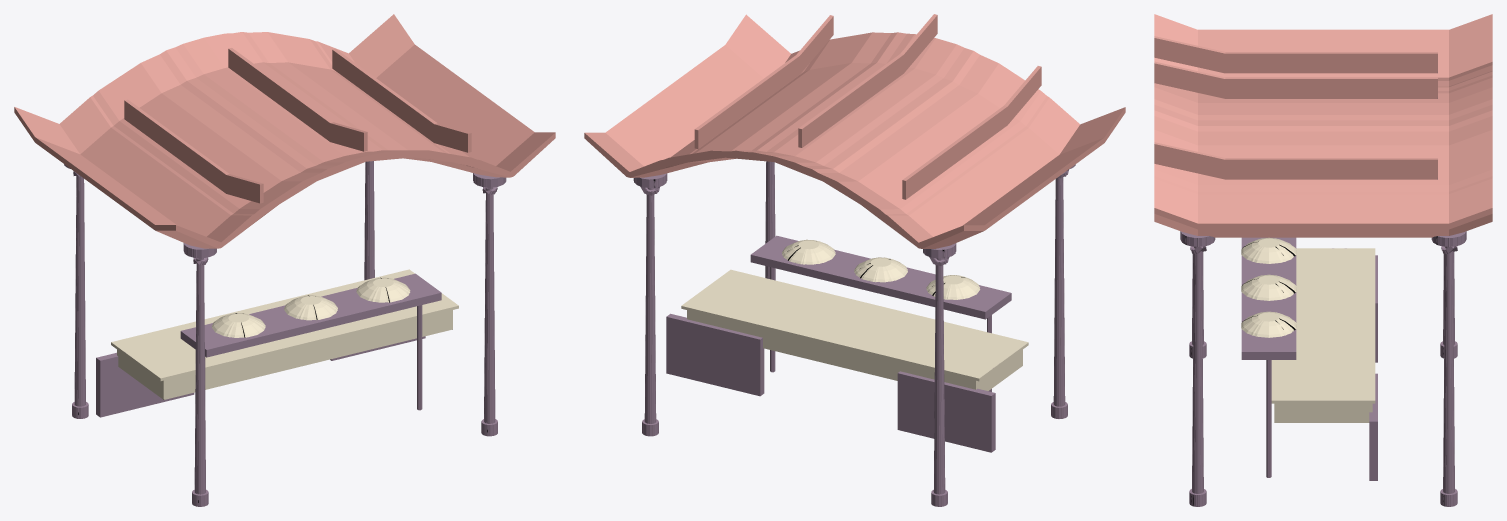
File: env_market_stall_a.glb
3 views of the same model, side by side, from view 1: azimuth 30°, elevation 25°; view 2: azimuth 150°, elevation 25°; view 3: azimuth 270°, elevation 25° (orthographic). The views are drawn at different scales.
Parts seen in each view (by area): view 1: lod0__stall_canopy, lod1__stall_canopy, lod0__stall_liptop, lod2__stall_canopy, lod0__stall_counter, lod0__stall_shelf, lod1__stall_counter, lod0__stall_rib_x1.15, lod0__stall_rib_x-1.15, lod0__stall_rib_x0.0, lod0__stall_front, lod0__stall_post.002 (+9 smaller); view 2: lod1__stall_canopy, lod0__stall_canopy, lod0__stall_liptop, lod0__stall_front.001, lod0__stall_front, lod0__stall_shelf, lod2__stall_canopy, lod0__stall_counter, lod0__stall_rib_x1.15, lod0__stall_rib_x0.0, lod0__stall_rib_x-1.15, lod1__stall_counter (+7 smaller); view 3: lod0__stall_canopy, lod1__stall_canopy, lod0__stall_liptop, lod0__stall_rib_x0.0, lod0__stall_rib_x1.15, lod0__stall_rib_x-1.15, lod0__stall_shelf, lod2__stall_canopy, lod0__stall_post.002, lod0__stall_post.003, lod0__stall_counter, lod1__stall_counter (+9 smaller).
Part boxes in pixels (x1,y1,x2,y2): lod0__stall_canopy: (14, 32, 555, 248); lod1__stall_canopy: (14, 14, 555, 246); lod0__stall_liptop: (111, 269, 458, 381); lod2__stall_canopy: (36, 45, 532, 246); lod0__stall_counter: (141, 310, 452, 399); lod0__stall_shelf: (180, 273, 441, 357); lod1__stall_counter: (117, 310, 452, 399); lod0__stall_rib_x1.15: (332, 49, 471, 152); lod0__stall_rib_x-1.15: (124, 99, 263, 203); lod0__stall_rib_x0.0: (228, 48, 367, 151); lod0__stall_front: (96, 352, 194, 417); lod0__stall_post.002: (484, 187, 495, 423); lod1__stall_canopy: (584, 14, 1124, 247); lod0__stall_canopy: (584, 32, 1125, 248); lod0__stall_liptop: (681, 269, 1028, 381); lod0__stall_front.001: (666, 313, 764, 396); lod0__stall_front: (897, 371, 995, 452); lod0__stall_shelf: (750, 235, 1011, 319); lod2__stall_canopy: (606, 45, 1104, 247); lod0__stall_counter: (687, 311, 1022, 389); lod0__stall_rib_x1.15: (694, 15, 833, 148); lod0__stall_rib_x0.0: (798, 14, 937, 147); lod0__stall_rib_x-1.15: (902, 66, 1041, 199); lod1__stall_counter: (687, 310, 1022, 390); lod0__stall_canopy: (1154, 62, 1492, 237); lod1__stall_canopy: (1154, 14, 1492, 229); lod0__stall_liptop: (1271, 248, 1375, 403); lod0__stall_rib_x0.0: (1154, 61, 1437, 98); lod0__stall_rib_x1.15: (1154, 142, 1437, 179); lod0__stall_rib_x-1.15: (1154, 36, 1437, 73); lod0__stall_shelf: (1241, 237, 1296, 359); lod2__stall_canopy: (1198, 29, 1448, 229); lod0__stall_post.002: (1192, 246, 1203, 493); lod0__stall_post.003: (1443, 246, 1454, 493); lod0__stall_counter: (1274, 403, 1372, 422); lod1__stall_counter: (1274, 403, 1372, 422).
Size of the model in its own units: 4.2 by 3.71 by 3.1.
Materials: 3 (3 with a texture image).
